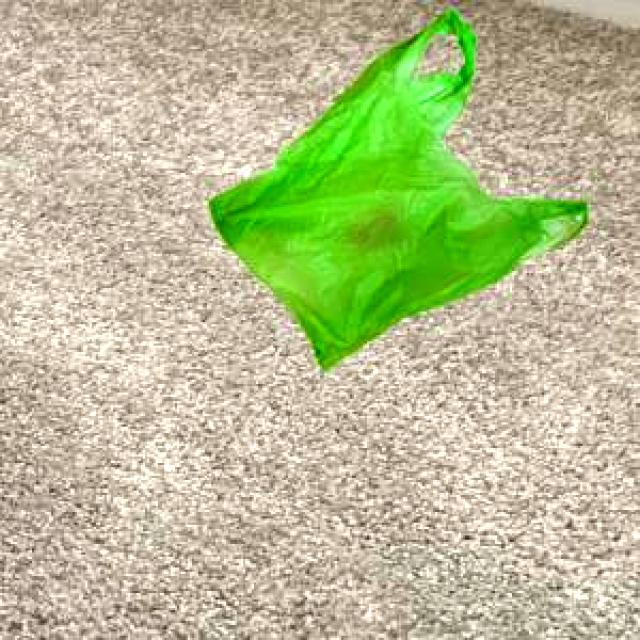Plastic_Bag: (205, 7, 586, 368)
